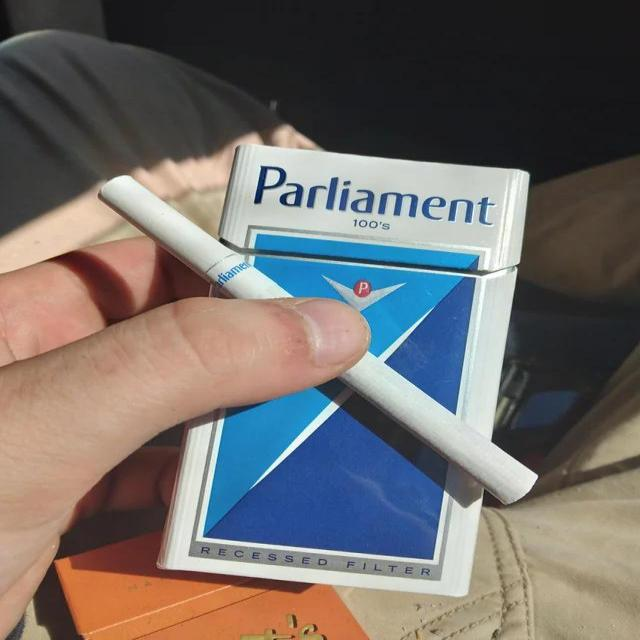cigarette: (340, 353, 538, 506), (98, 177, 290, 302)
